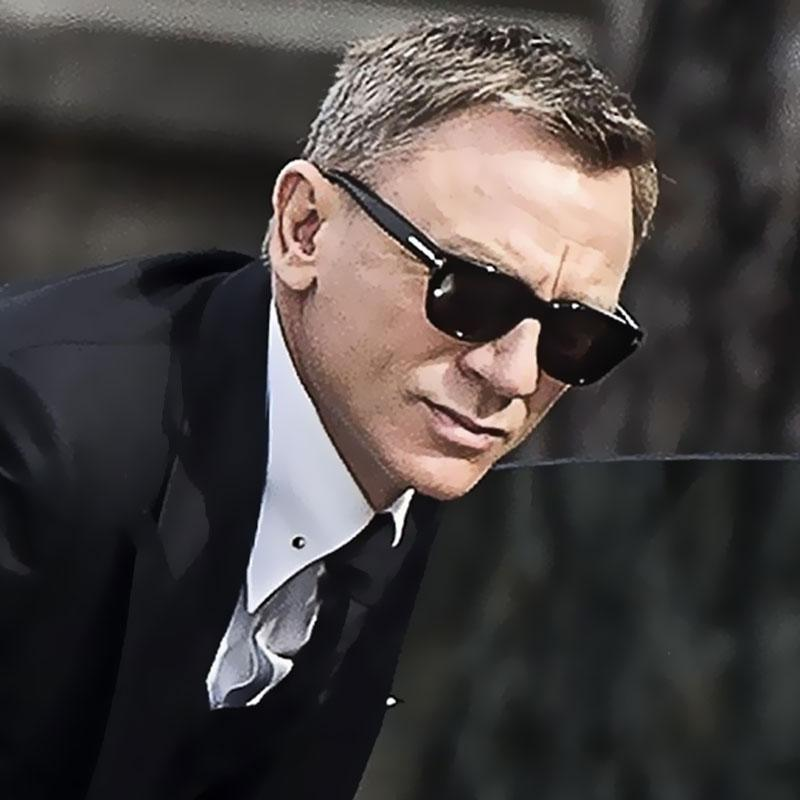sunglasses: (284, 162, 667, 397)
